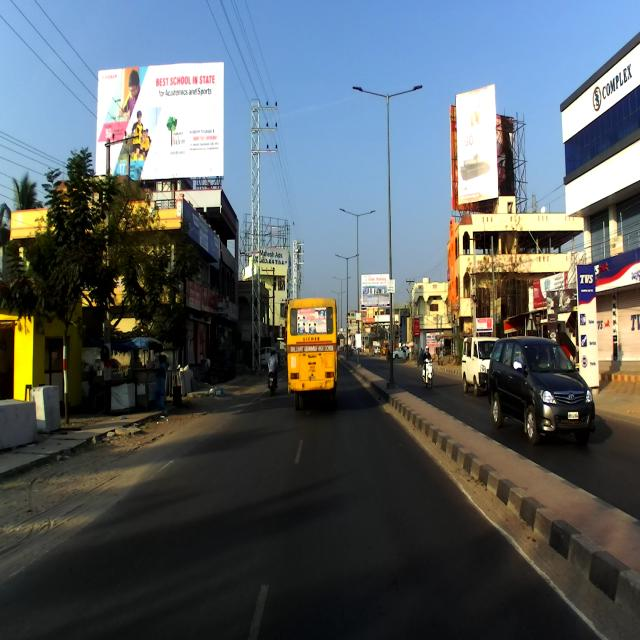bus ahead at: (282, 301, 340, 401)
car ahead at: (487, 333, 596, 453)
tree ahead at: (46, 267, 84, 435)
